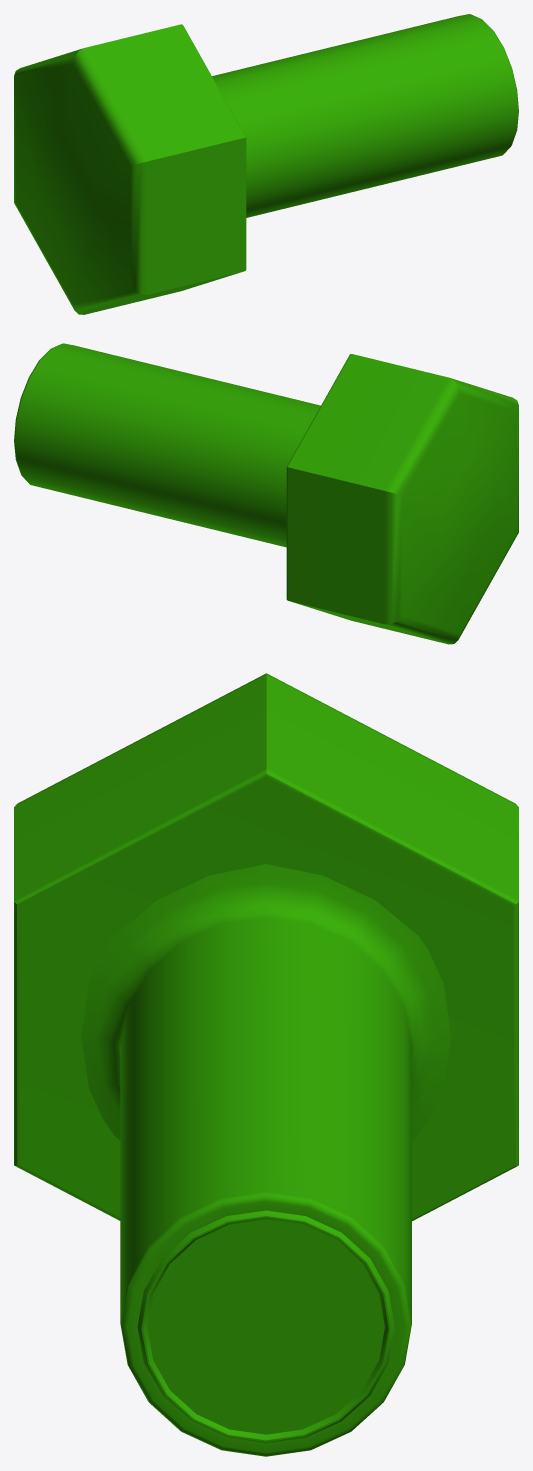
File: geo_bolt.fbx
3 views of the same model, one above another, from view 1: azimuth 30°, elevation 25°; view 2: azimuth 150°, elevation 25°; view 3: azimuth 270°, elevation 25° (orthographic). The views are drawn at different scales.
Parts seen in each view (by area): view 1: Bolt:pCylinder33; view 2: Bolt:pCylinder33; view 3: Bolt:pCylinder33.
Part boxes in pixels (left/top/right/bottom): Bolt:pCylinder33: left=14, top=14, right=518, bottom=314; Bolt:pCylinder33: left=14, top=343, right=518, bottom=644; Bolt:pCylinder33: left=14, top=673, right=518, bottom=1456.
Size of the model in its own units: 9.9 by 6 by 5.2.
